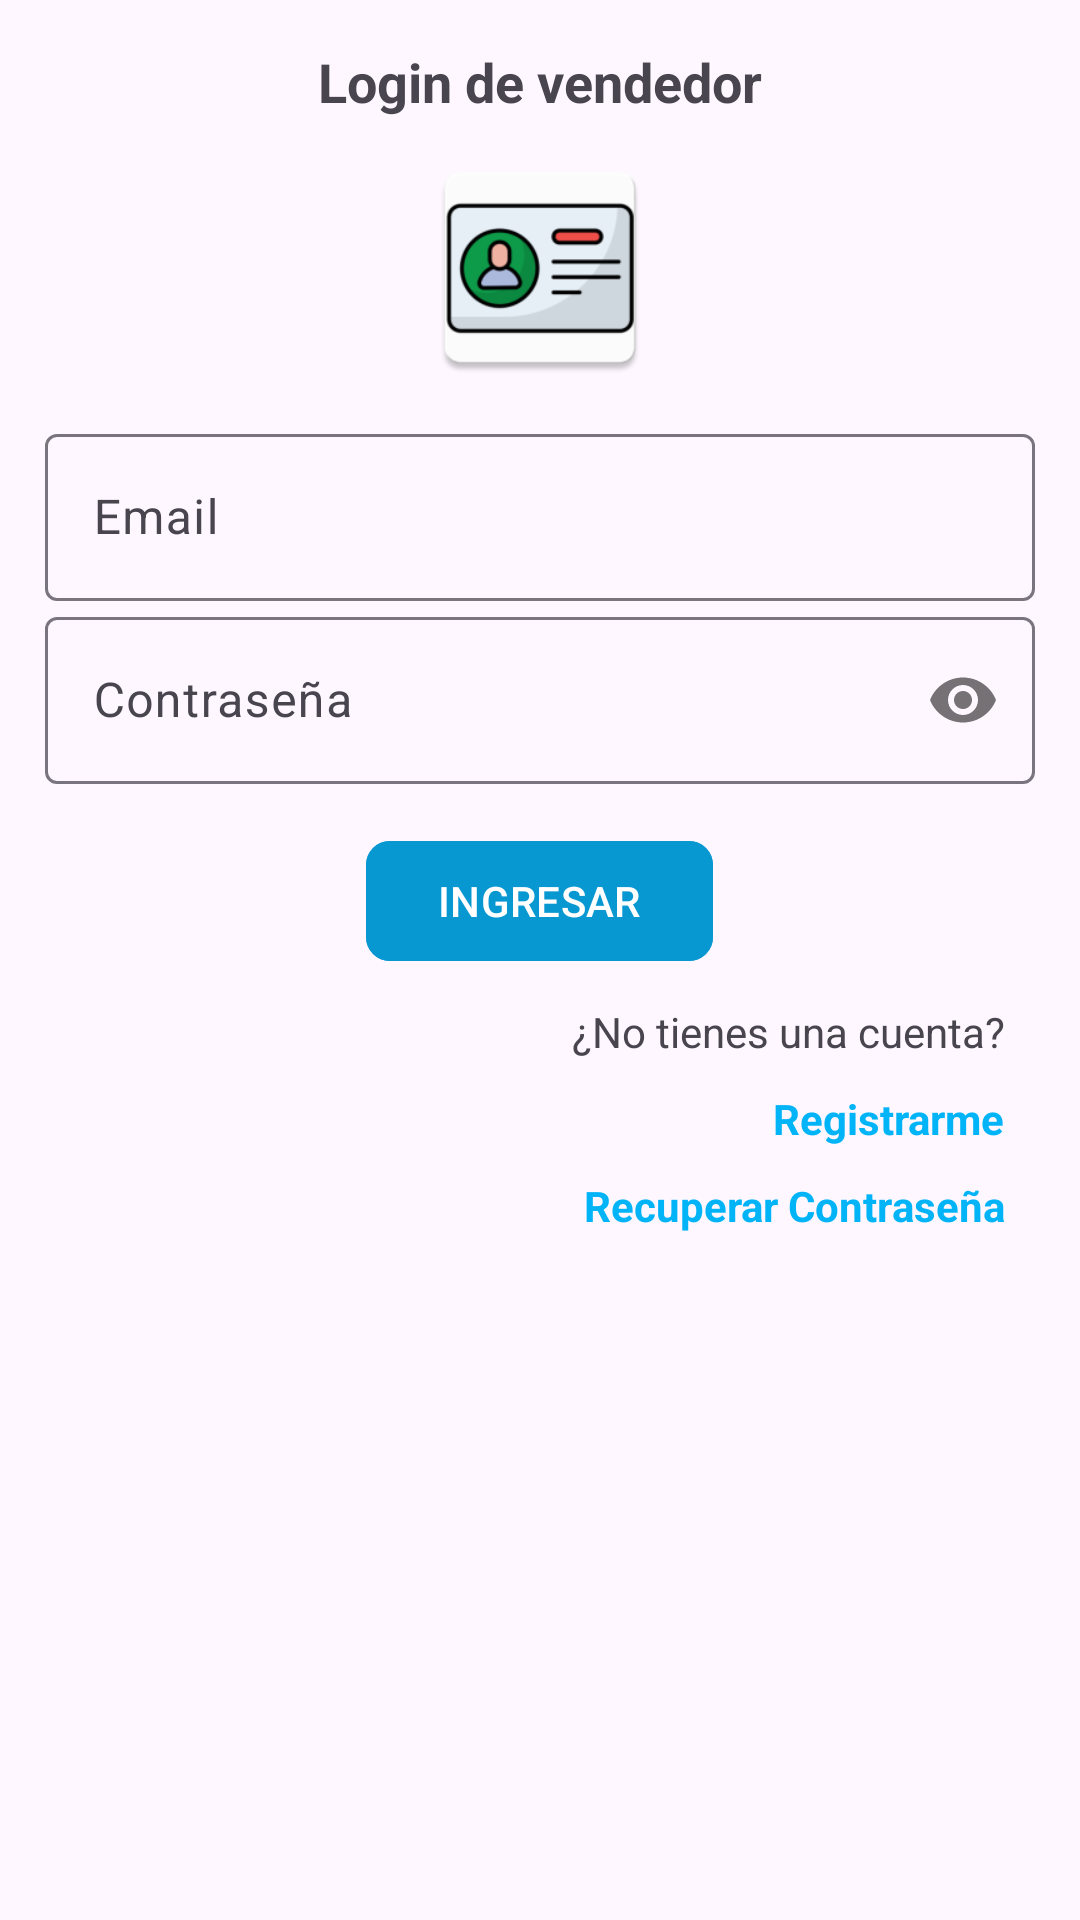

Locate icon controls on the screen. Image size 1080 x 1920, boxes as (x1, y1, x2, y2).
im login: (445, 182, 636, 369)
